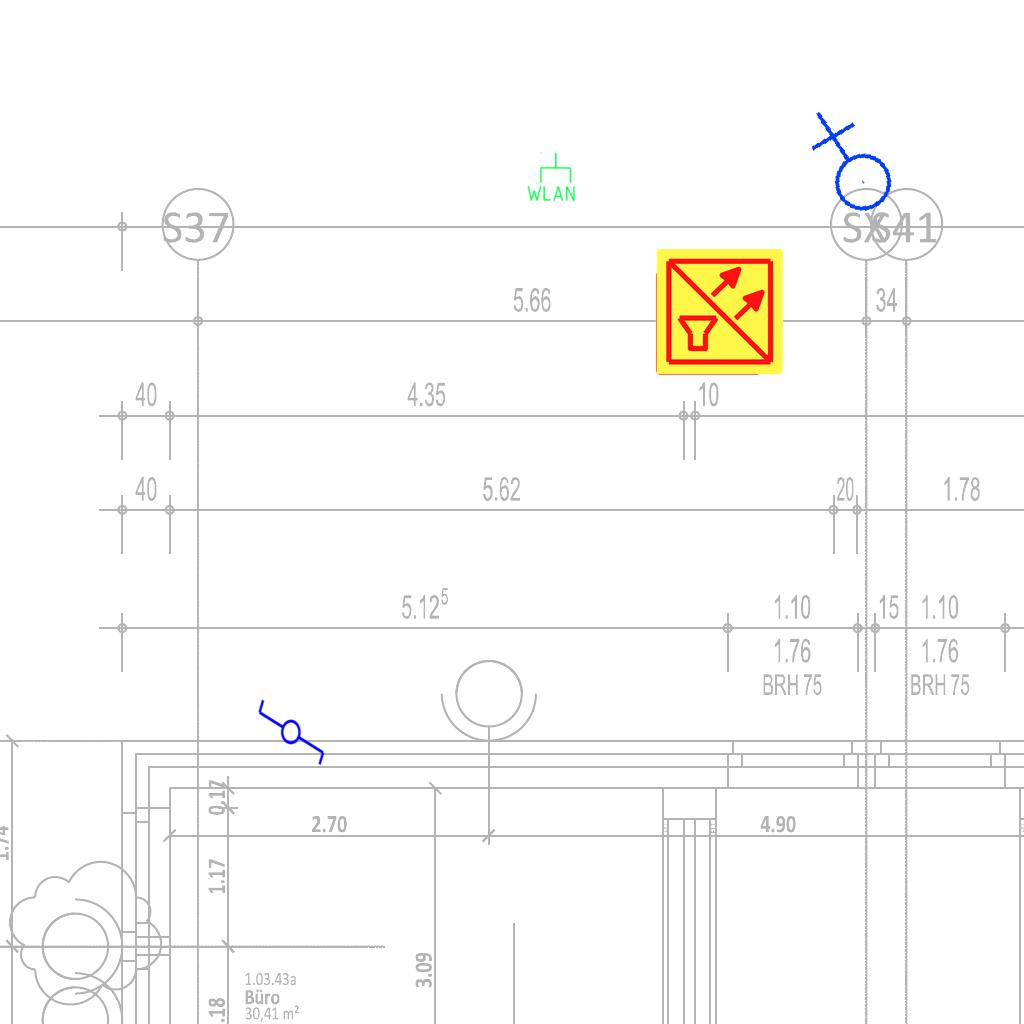Elektroanschluss_allgemein_230V_Geraeteanschlussdose_230V: (792, 109, 905, 225)
OKW_Multisensormelder_(Kombination_optischer_Rauch-Kahlenmonoxid_Waerme-Melder): (654, 246, 786, 378)
WLAN: (525, 151, 577, 203)
Wechselschalter: (256, 689, 328, 767)
